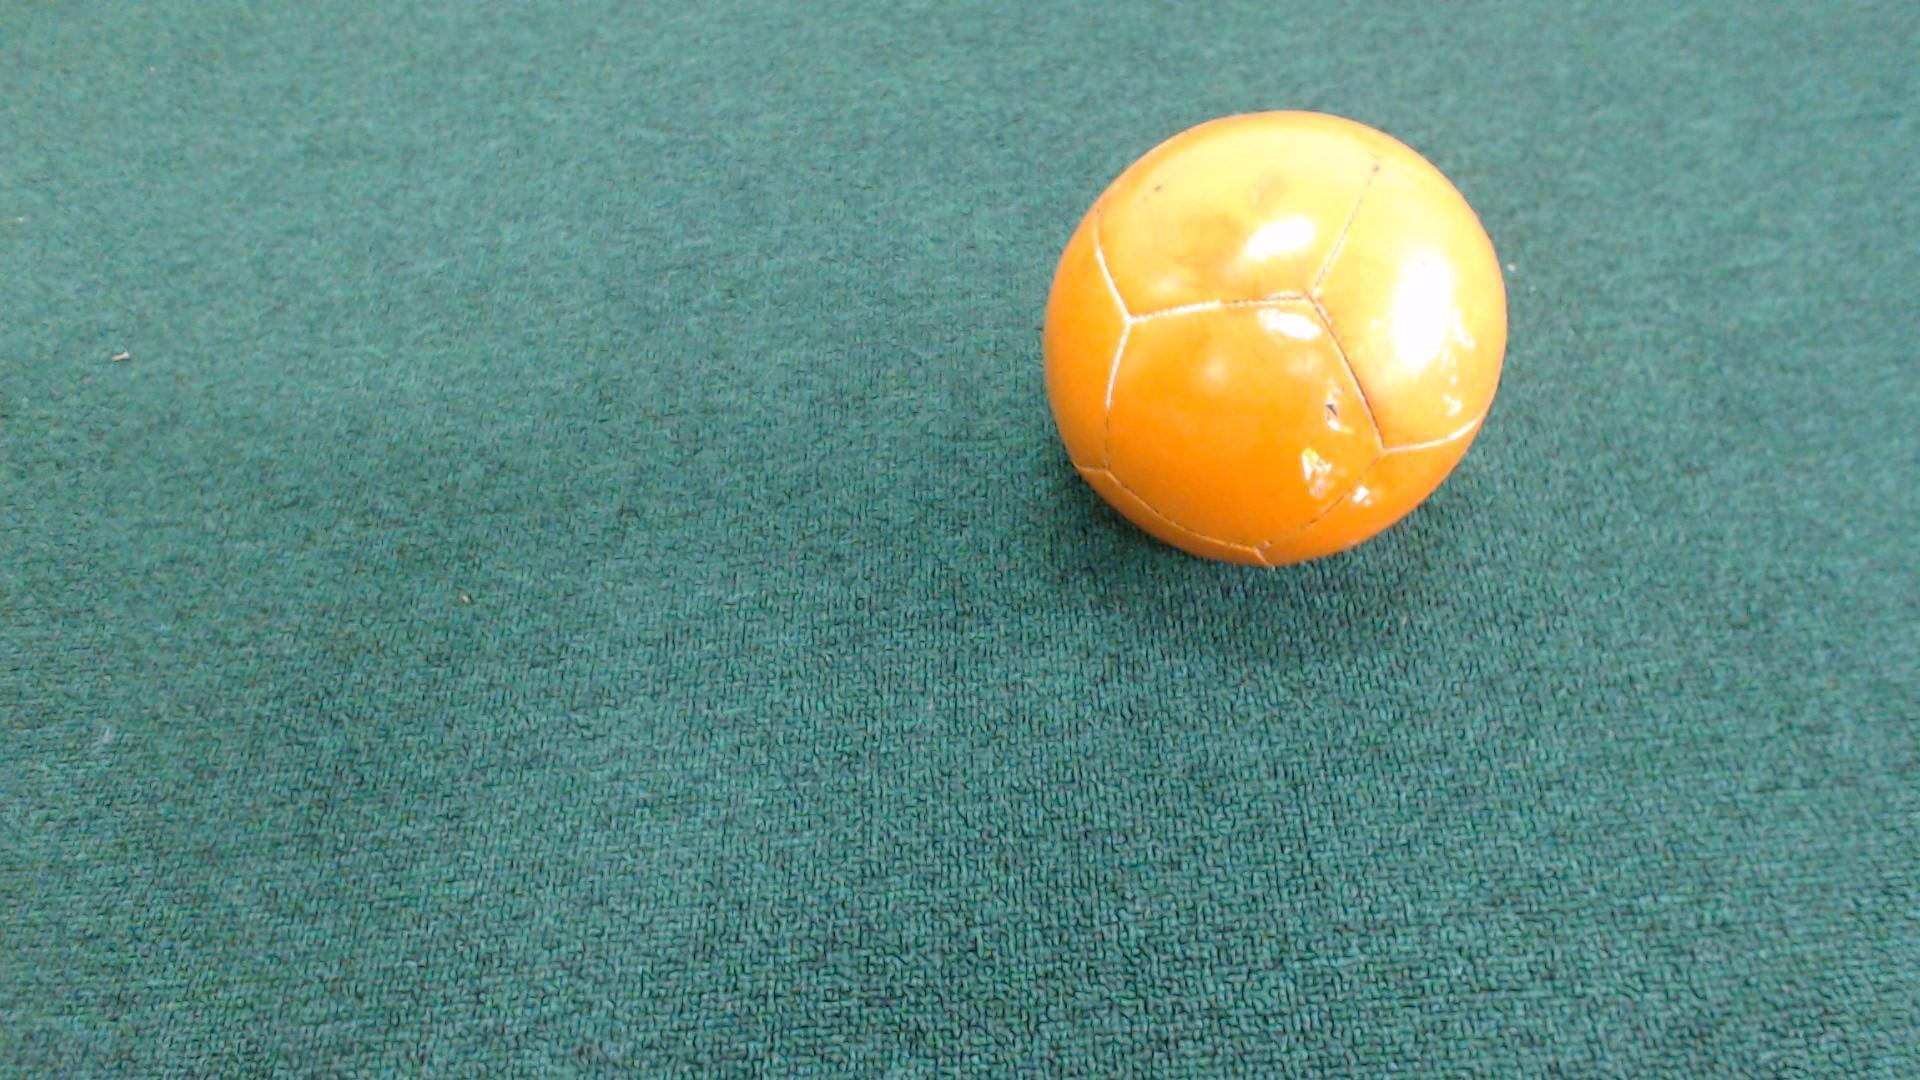bola: (1022, 100, 1524, 562)
